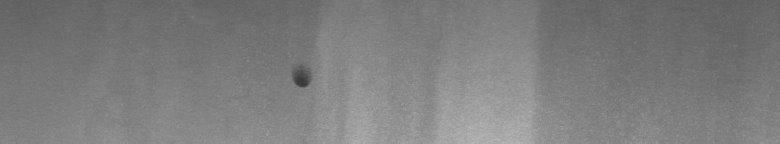fi: (287, 60, 316, 96)
